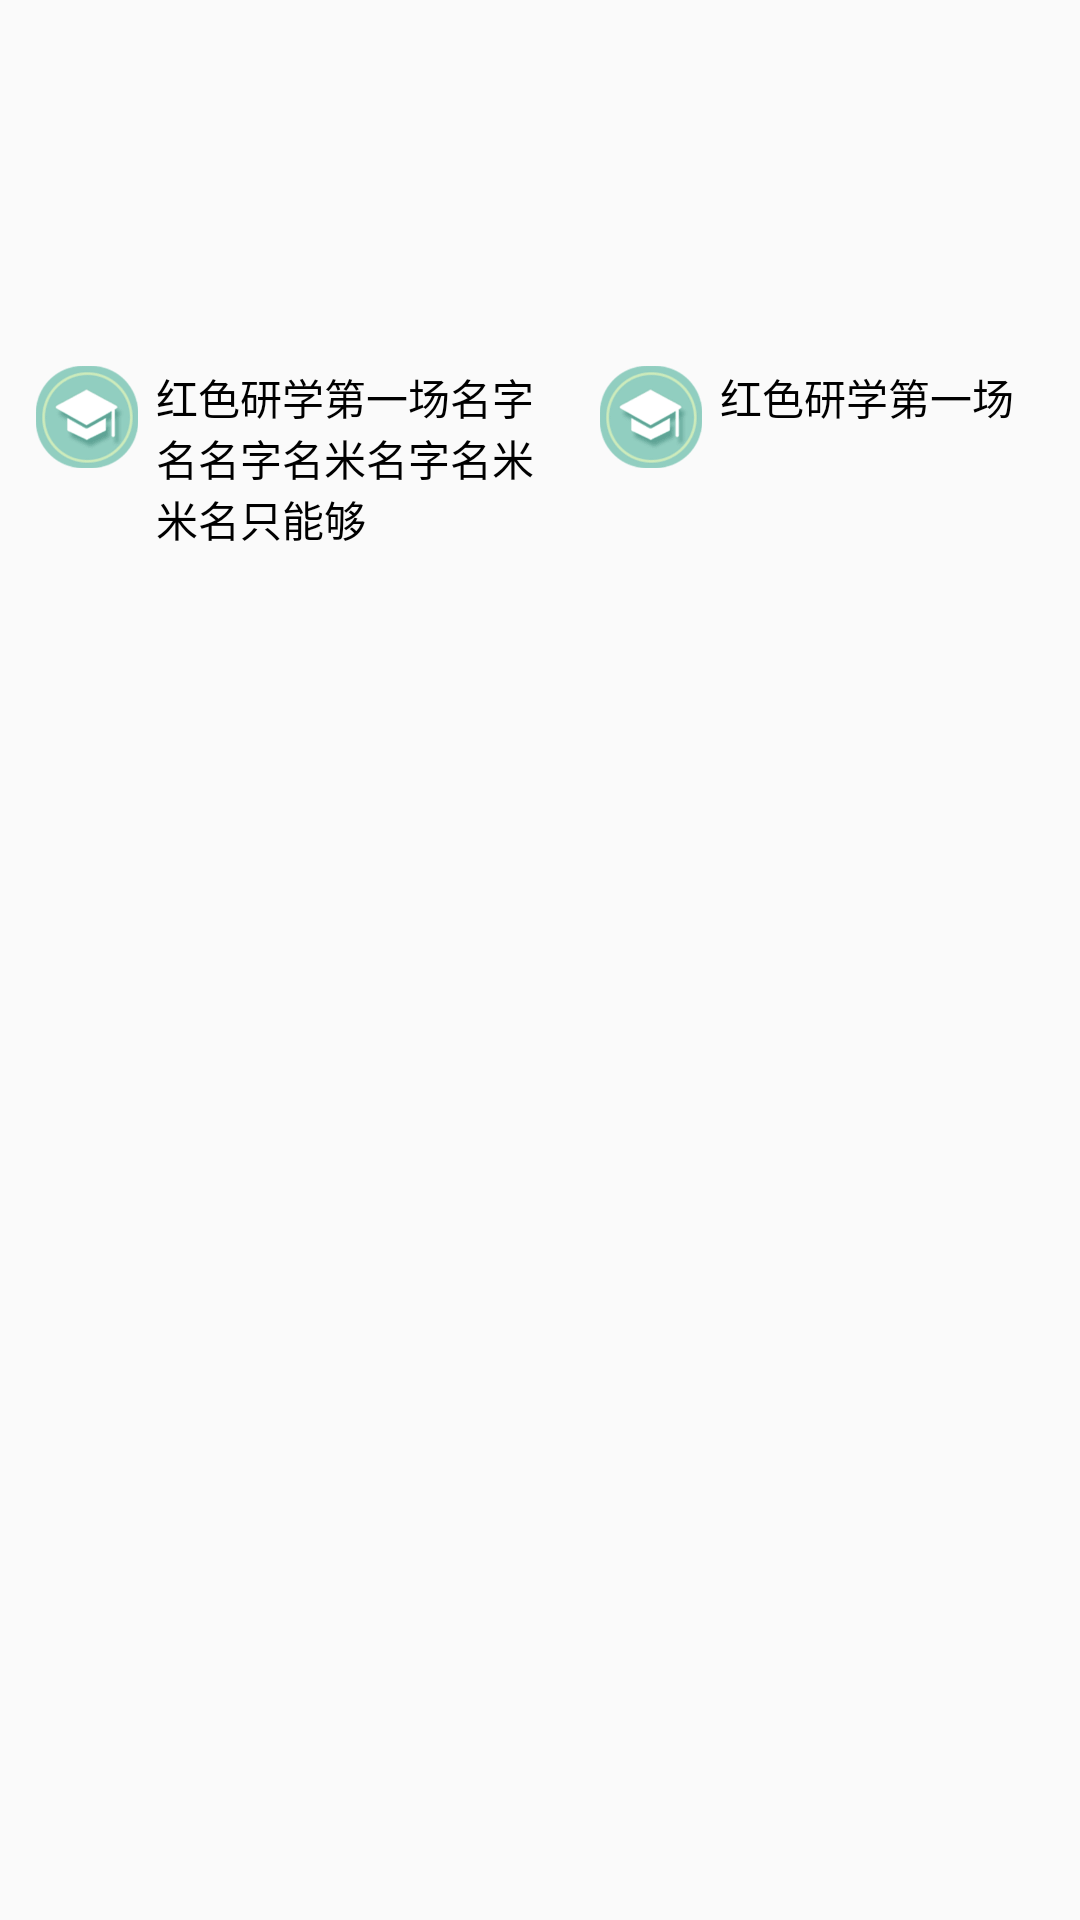

Locate icon controls on the screen. Image size 1080px×1920px, boxes as (x1, y1, x2, y2).
education: (36, 366, 138, 468), (600, 366, 702, 468)
